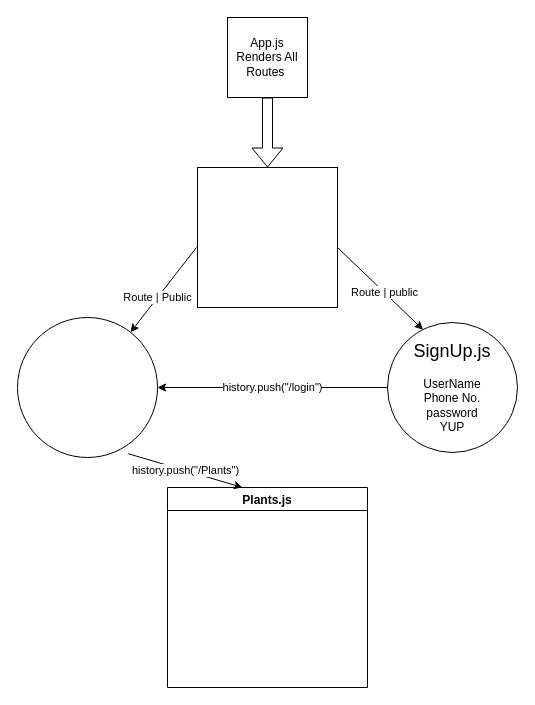
The diagram is 535 pixels wide and 705 high, and some of its shapes have lost their labels. Here are the shapes that lost their labels. From the top down, the centre of each, then its label:
the point at 267,237: Home Page/App.js Nav Login | Register Description of App/Purpost
the point at 87,387: Login.js axiosWithAuth() username password YUP
